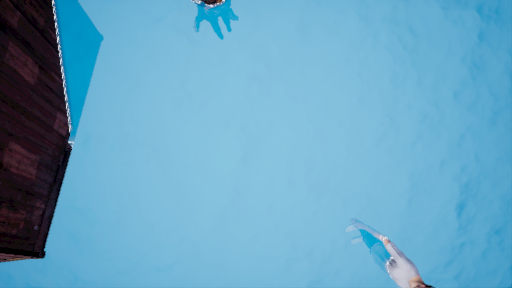person: (341, 219, 437, 288)
